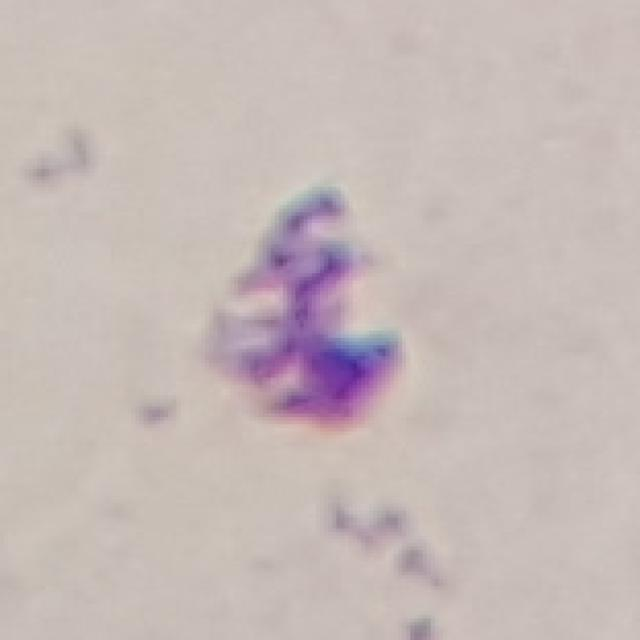non-sperm: (208, 181, 405, 432)
